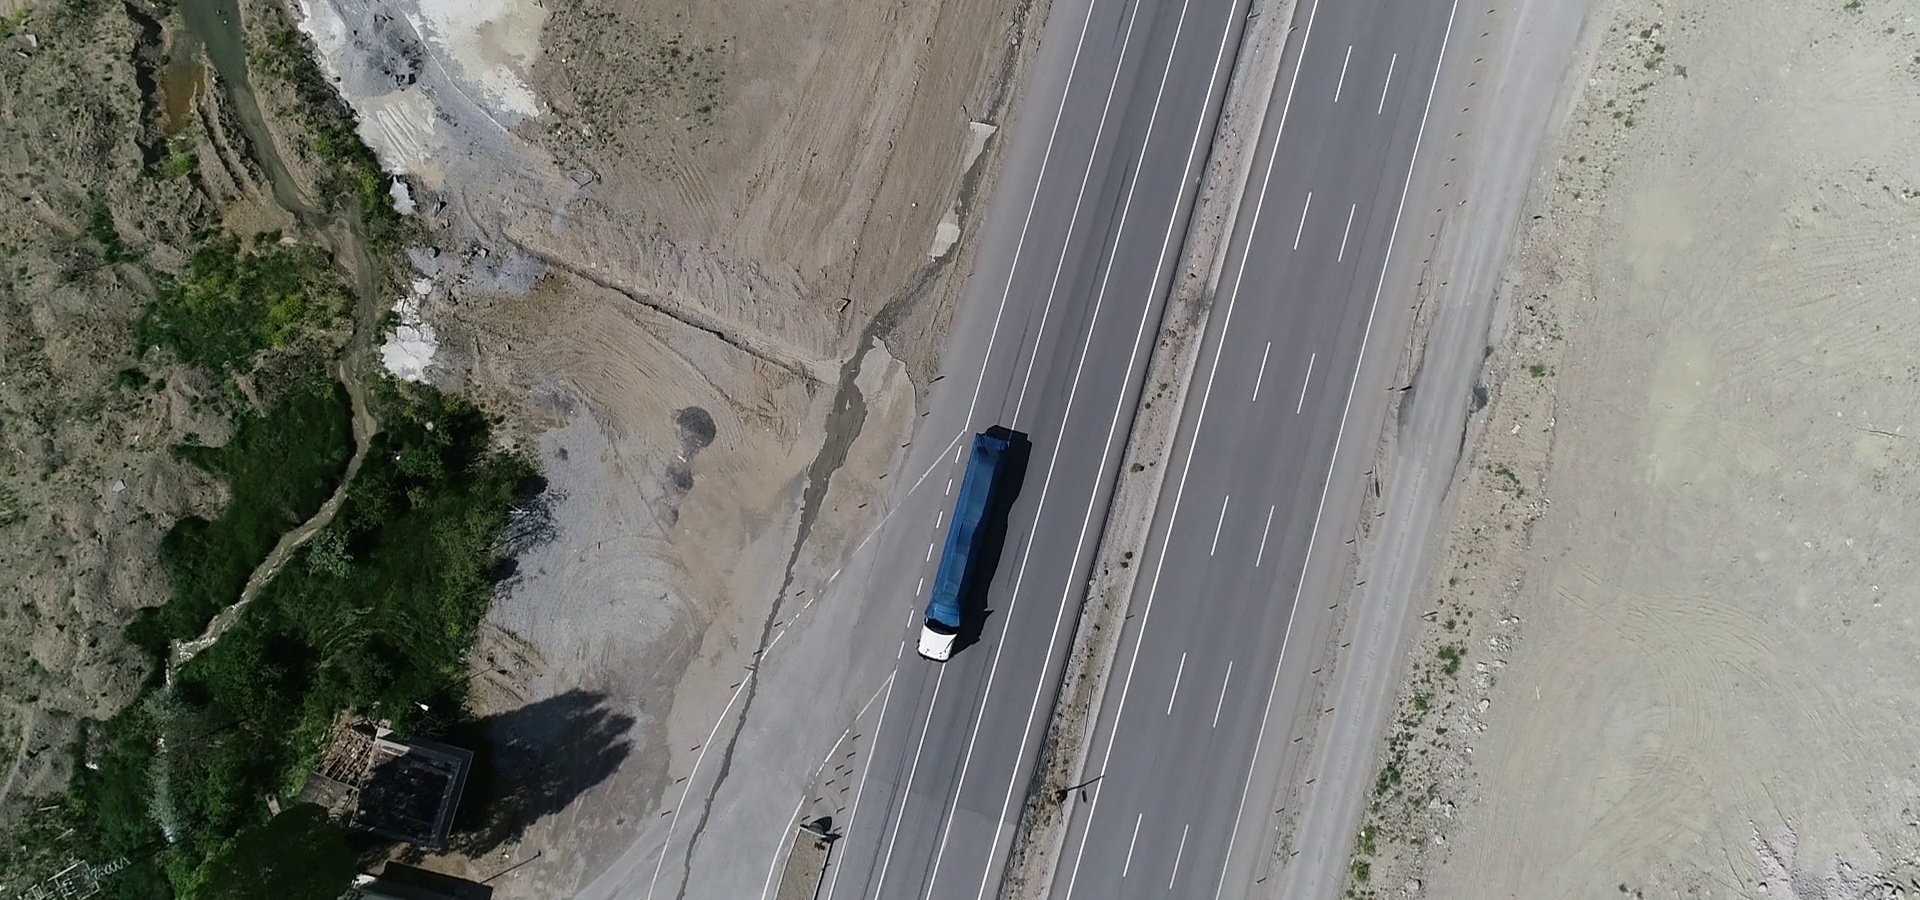arac: (907, 426, 1026, 665)
